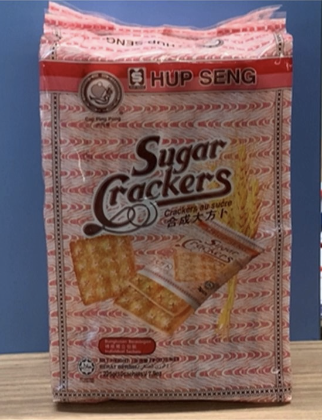crackers_200g-299g: (62, 60, 280, 386)
